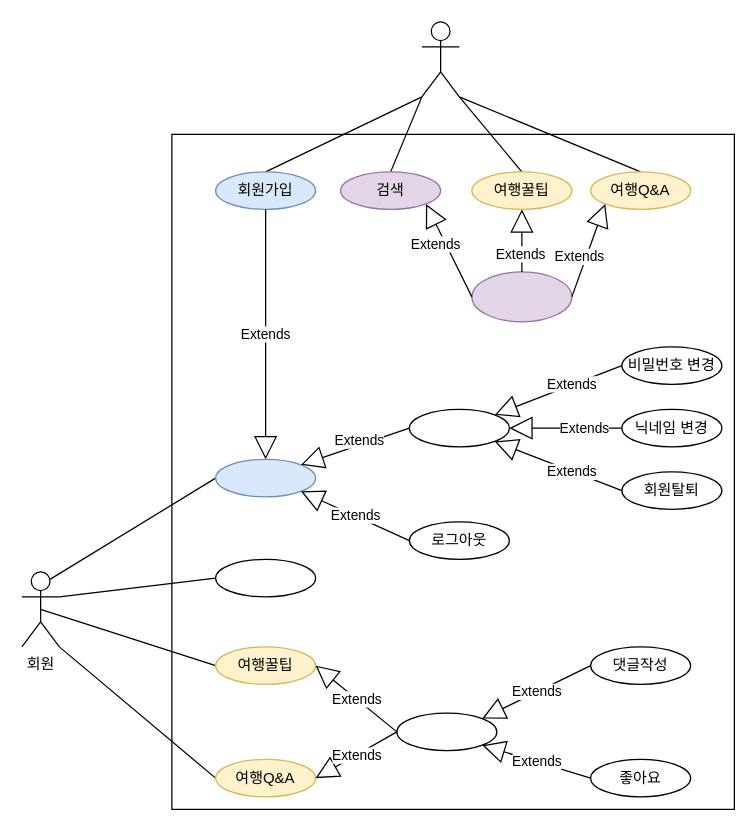
The diagram is 756 pixels wide and 831 high, and some of its shapes have lost their labels. Here are the shapes that lost their labels. From the top down, the centre of each, then its label:
the point at 440,59: 비회원
the point at 521,296: 게시판별 조건 전체 검색
the point at 458,427: 내정보
the point at 265,477: 로그인
the point at 265,577: 비밀번호 찾기
the point at 446,731: 게시글 작성
